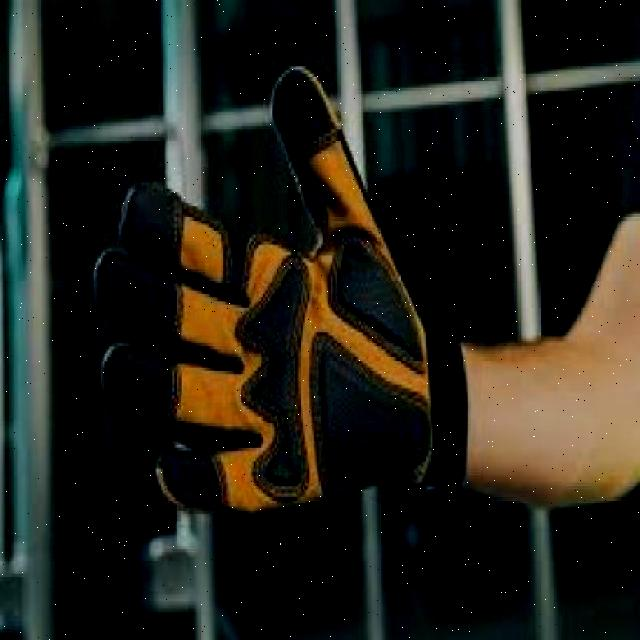Gloves: (96, 46, 447, 514)
